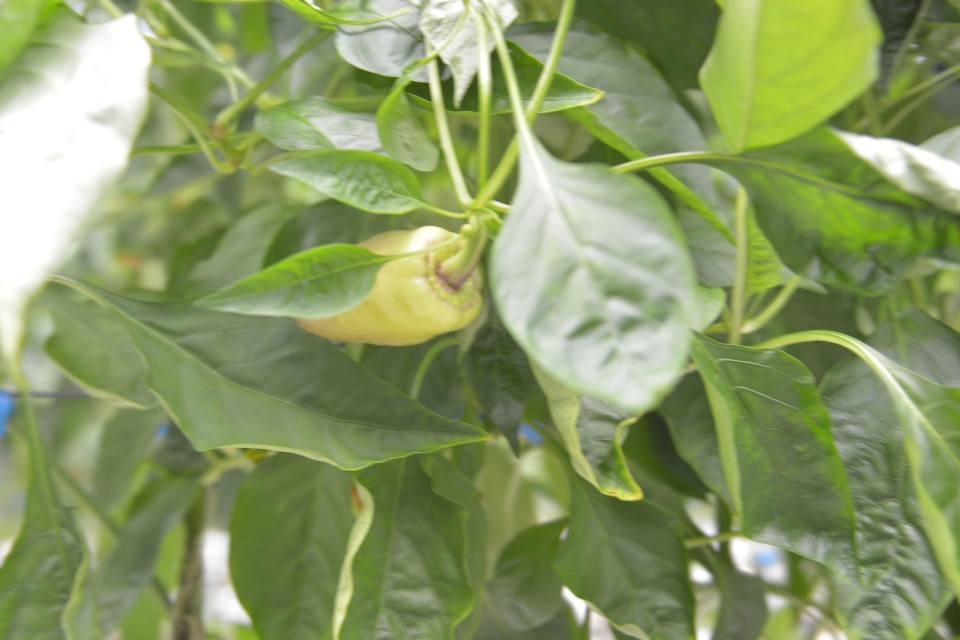immature: (292, 226, 487, 351)
